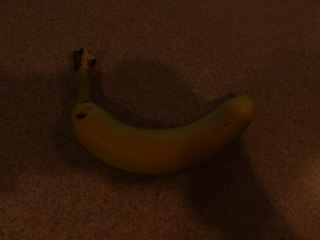banana: (58, 44, 262, 182)
